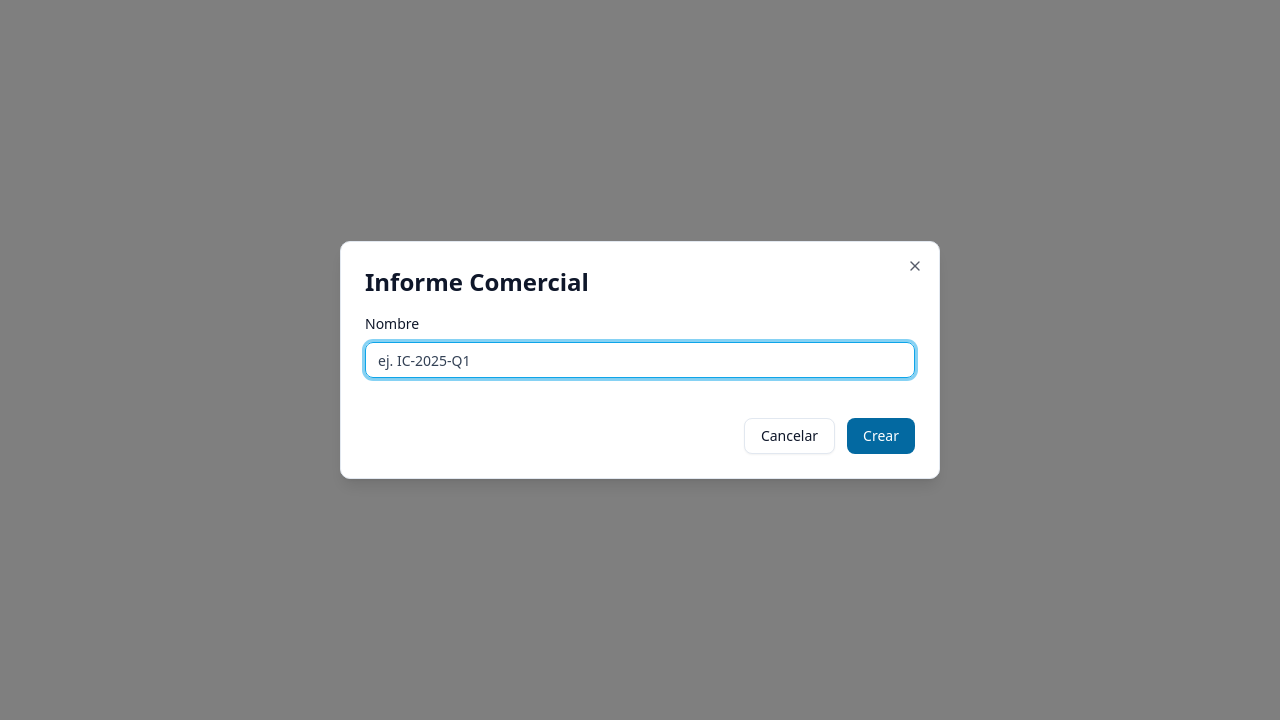
Scenario: CreateInformeComercialForm - Acceptance › valida que el nombre sea requerido antes de enviar
# User tries to submit without filling the form
Click the button "Crear" at (881, 436), box [847,418,915,454]
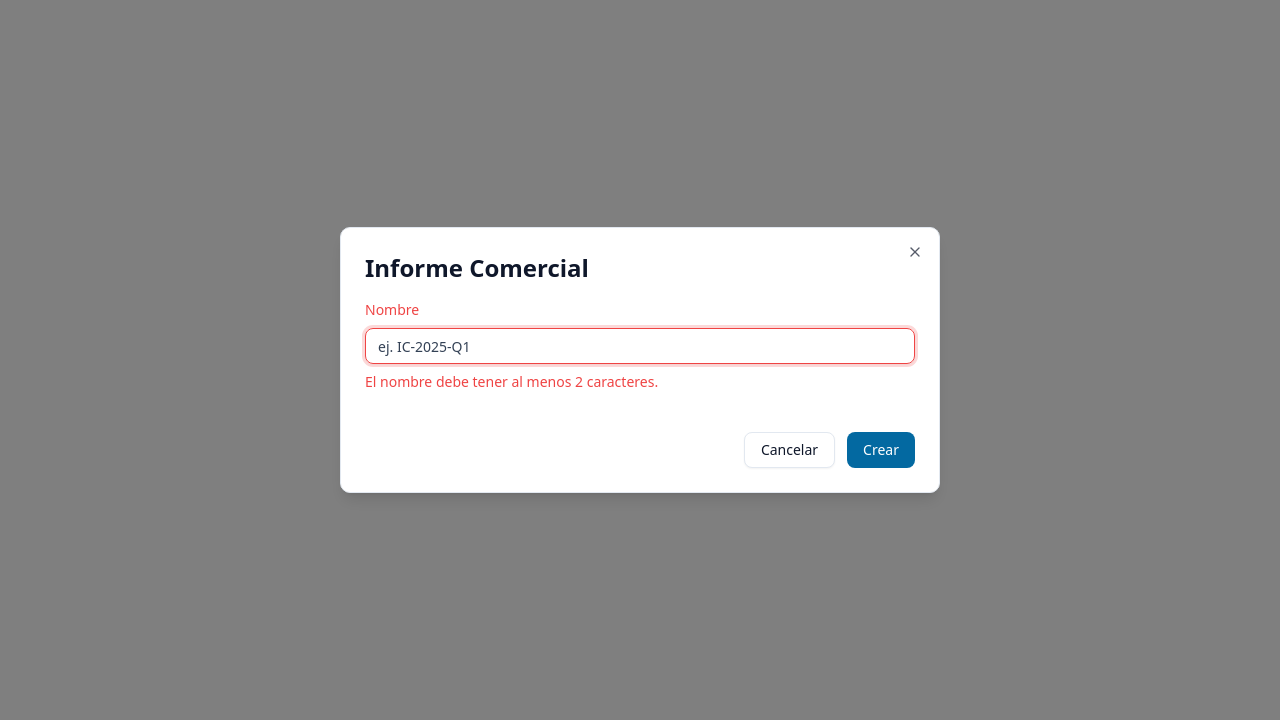
Expected: the text "El nombre debe tener al menos 2 caracteres." is shown, [365,372,658,391]
